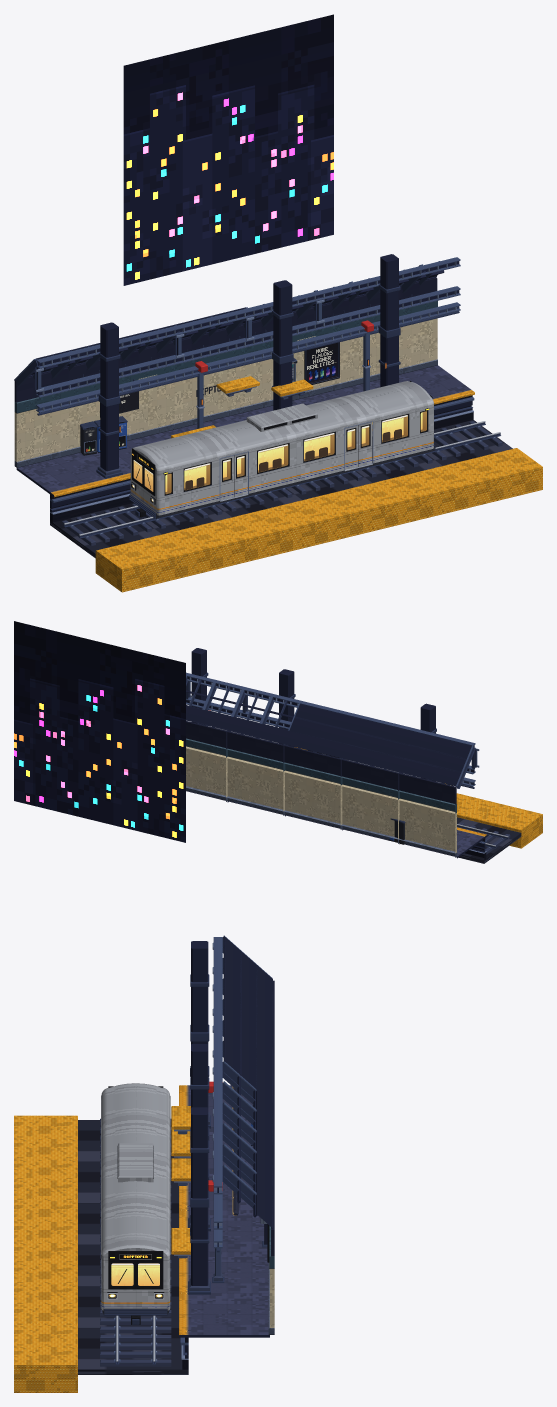
File: Ripptopia_Station_Assembled.fbx
3 views of the same model, one above another, from view 1: azimuth 30°, elevation 25°; view 2: azimuth 150°, elevation 25°; view 3: azimuth 270°, elevation 25° (orthographic). The views are drawn at different scales.
Visible parts, largest first — view 1: SM_City_Backdrop, TR_Body, SM_Wall_Module_00, SM_Platform_Floor_00, SM_Wall_Module_02, SM_Near_Platform_00, SM_Near_Platform_04, SM_Near_Platform_01, SM_Near_Platform_03, SM_Near_Platform_02, SM_Near_Platform_05, SM_Wall_Module_05 (+35 smaller); view 2: SM_City_Backdrop, SM_Wall_Module_02, SM_Wall_Module_03, SM_Wall_Module_00, SM_Wall_Module_01, SM_Wall_Module_04, SM_Ceiling_Soffit_00, SM_Ceiling_Soffit_02, SM_Ceiling_Soffit_01, SM_Near_Platform_00, SM_Ceiling_Soffit_03, SM_Ceiling_Soffit_04 (+9 smaller); view 3: TR_Body, SM_Track_Module_05, SM_Near_Platform_05, SM_Platform_Floor_05, SM_Pillar_02, TR_Cab_A, SM_Near_Platform_02, SM_Platform_Floor_04, SM_Near_Platform_00, SM_Near_Platform_01, SM_Near_Platform_03, SM_Near_Platform_04 (+18 smaller).
Boxes of the visible parts, box(x1,y1,x2,y2) form: SM_City_Backdrop: box(123, 14, 333, 285); TR_Body: box(130, 381, 433, 518); SM_Wall_Module_00: box(14, 363, 86, 467); SM_Platform_Floor_00: box(16, 452, 124, 522); SM_Wall_Module_02: box(156, 329, 227, 433); SM_Near_Platform_00: box(95, 533, 192, 592); SM_Near_Platform_04: box(377, 465, 472, 523); SM_Near_Platform_01: box(166, 516, 262, 575); SM_Near_Platform_03: box(307, 482, 402, 540); SM_Near_Platform_02: box(237, 499, 332, 558); SM_Near_Platform_05: box(447, 448, 542, 506); SM_Wall_Module_05: box(367, 277, 437, 381); SM_City_Backdrop: box(14, 621, 185, 842); SM_Wall_Module_02: box(283, 745, 342, 827); SM_Wall_Module_03: box(226, 731, 284, 814); SM_Wall_Module_00: box(398, 773, 457, 857); SM_Wall_Module_01: box(340, 759, 399, 843); SM_Wall_Module_04: box(186, 721, 227, 799); SM_Ceiling_Soffit_00: box(399, 731, 475, 788); SM_Ceiling_Soffit_02: box(284, 703, 357, 759); SM_Ceiling_Soffit_01: box(341, 717, 414, 773); SM_Near_Platform_00: box(464, 800, 542, 848); SM_Ceiling_Soffit_03: box(227, 693, 299, 745); SM_Ceiling_Soffit_04: box(186, 679, 245, 731); TR_Body: box(101, 1083, 170, 1313); SM_Track_Module_05: box(78, 1319, 188, 1374); SM_Near_Platform_05: box(14, 1323, 77, 1392); SM_Platform_Floor_05: box(179, 1293, 269, 1369); SM_Pillar_02: box(188, 1107, 210, 1294); TR_Cab_A: box(103, 1251, 167, 1324); SM_Near_Platform_02: box(14, 1198, 77, 1240); SM_Platform_Floor_04: box(179, 1251, 268, 1293); SM_Near_Platform_00: box(14, 1115, 77, 1157); SM_Near_Platform_01: box(14, 1157, 77, 1198); SM_Near_Platform_03: box(14, 1240, 77, 1281); SM_Near_Platform_04: box(14, 1282, 77, 1323).
Bounding box in the file's own units: 24.72 × 17.1 × 21.5.
15 materials, 14 textured.
